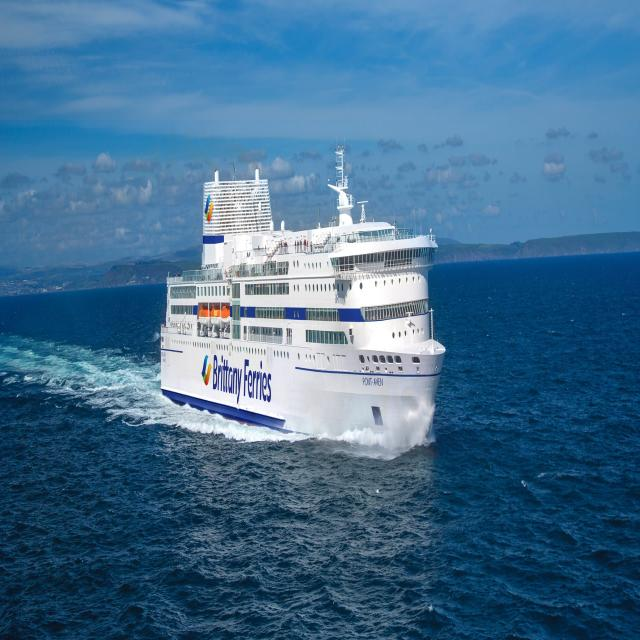boat: (153, 132, 458, 488)
